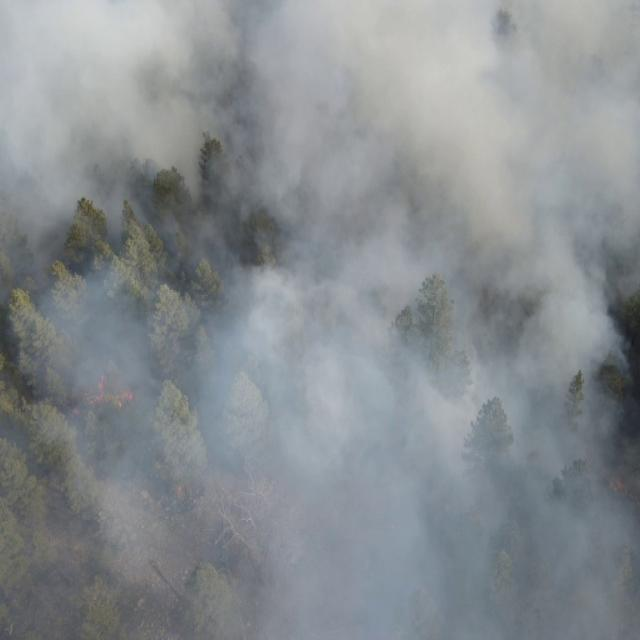fire: (72, 376, 136, 422), (606, 477, 634, 493), (174, 480, 187, 500)
smoke: (0, 0, 640, 640)
